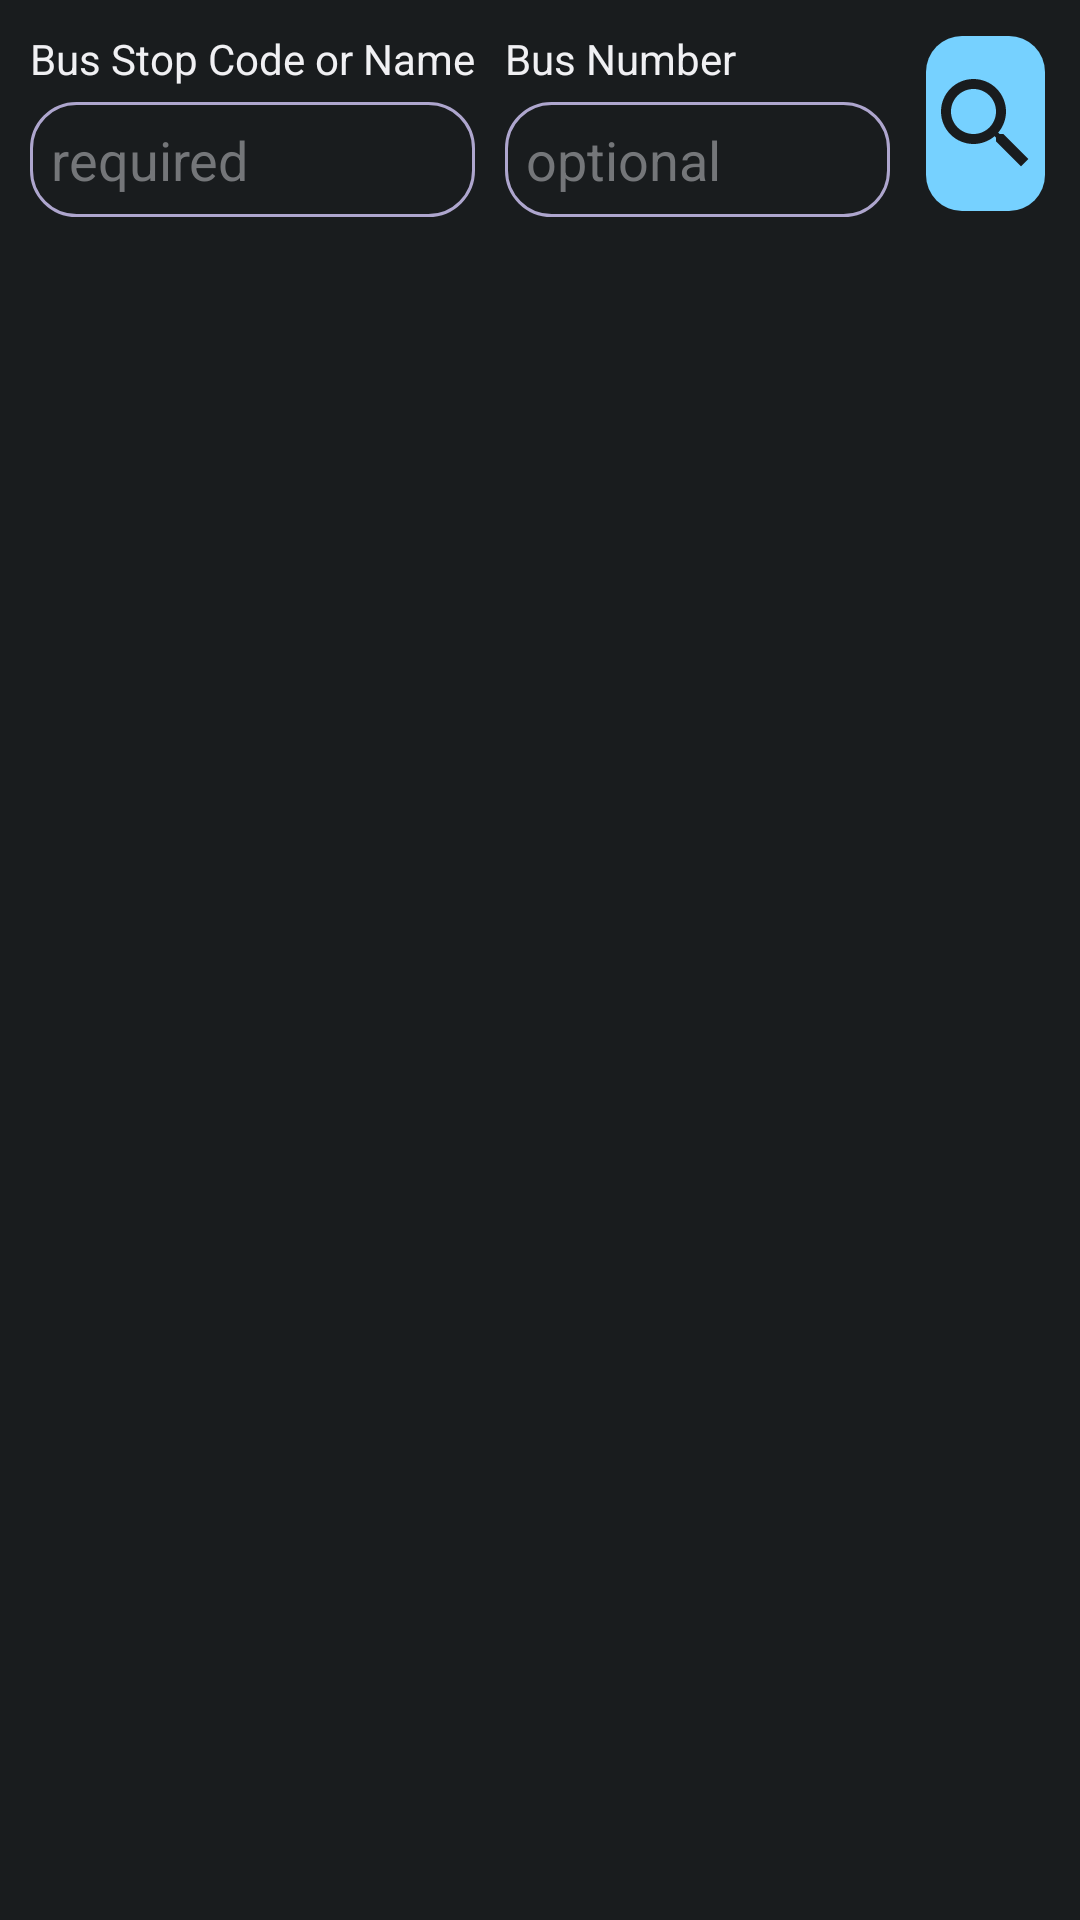

Icons on this 1080px×1920px Android screen, each with its box as [x1, y1, x2, y2]:
search: [926, 36, 1045, 211]
